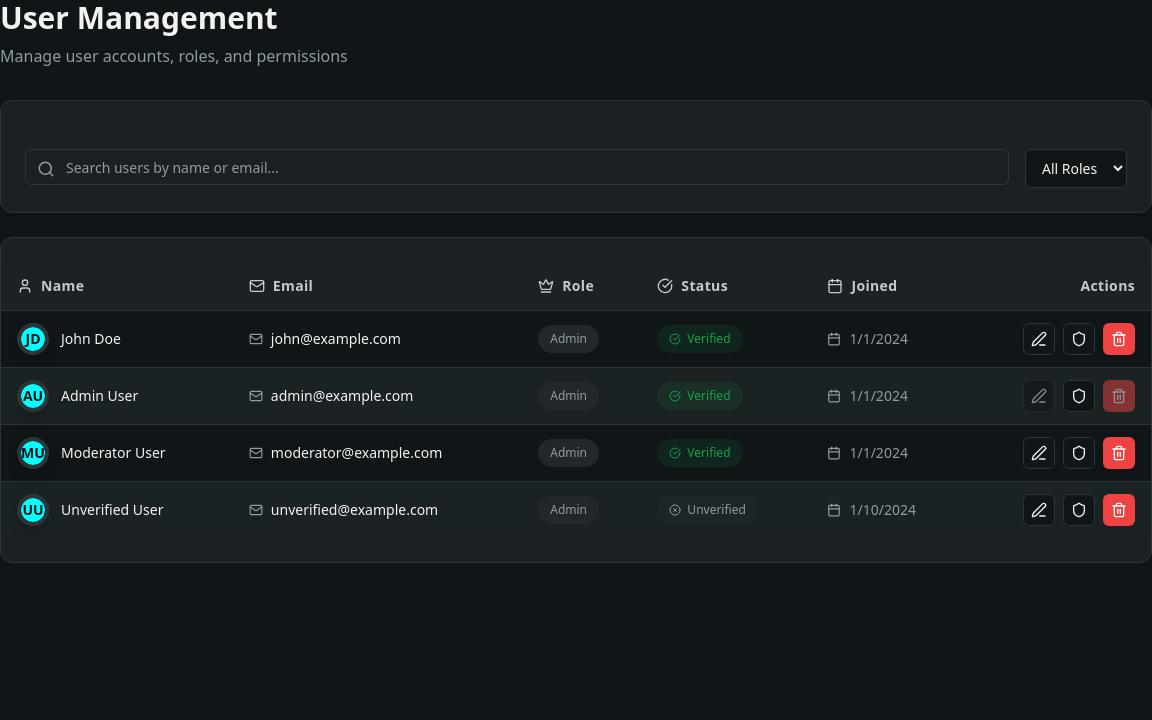
Test: UsersPage › should open reset password modal
The image size is (1152, 720).
Expected: the text "John Doe" is shown, x1=61 y1=328 x2=121 y2=348
Click the 1st button titled "Reset user password": (1079, 338) x1=1063 y1=322 x2=1095 y2=354
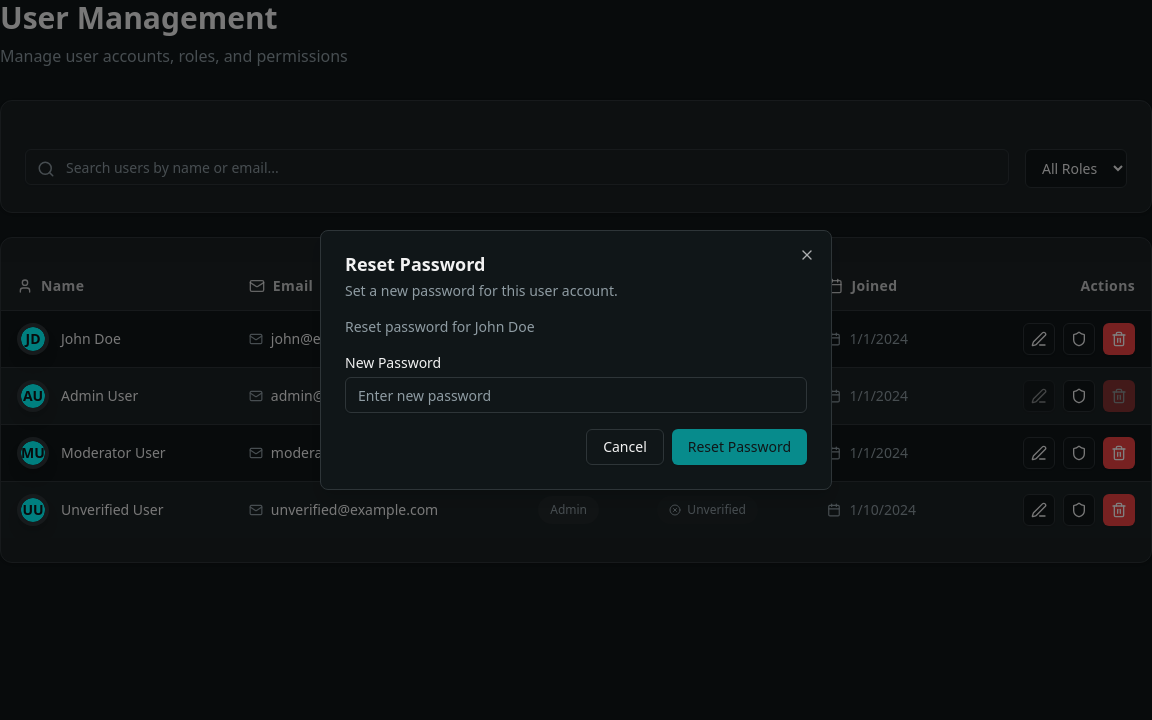
Result: the heading "Reset Password" is shown at x1=345 y1=252 x2=485 y2=276
Result: the text "Reset password for John Doe" is shown at x1=345 y1=317 x2=534 y2=336
Result: the password field with placeholder "Enter new password" is shown at x1=345 y1=377 x2=807 y2=413
